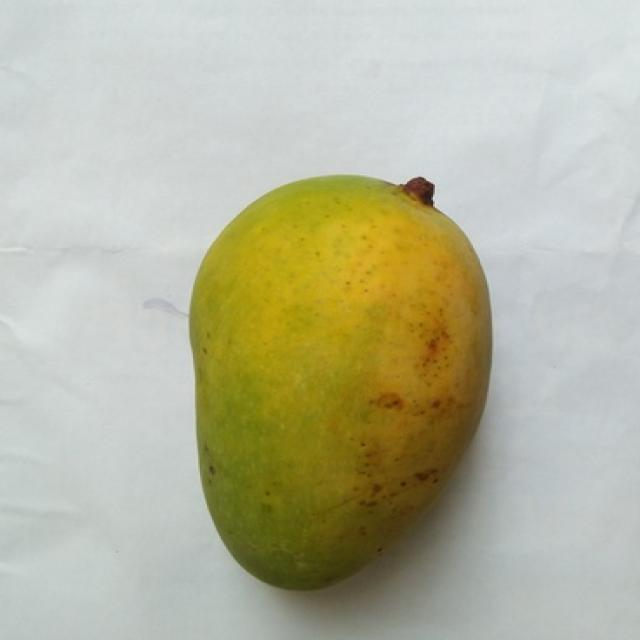Mango: (191, 177, 490, 589)
